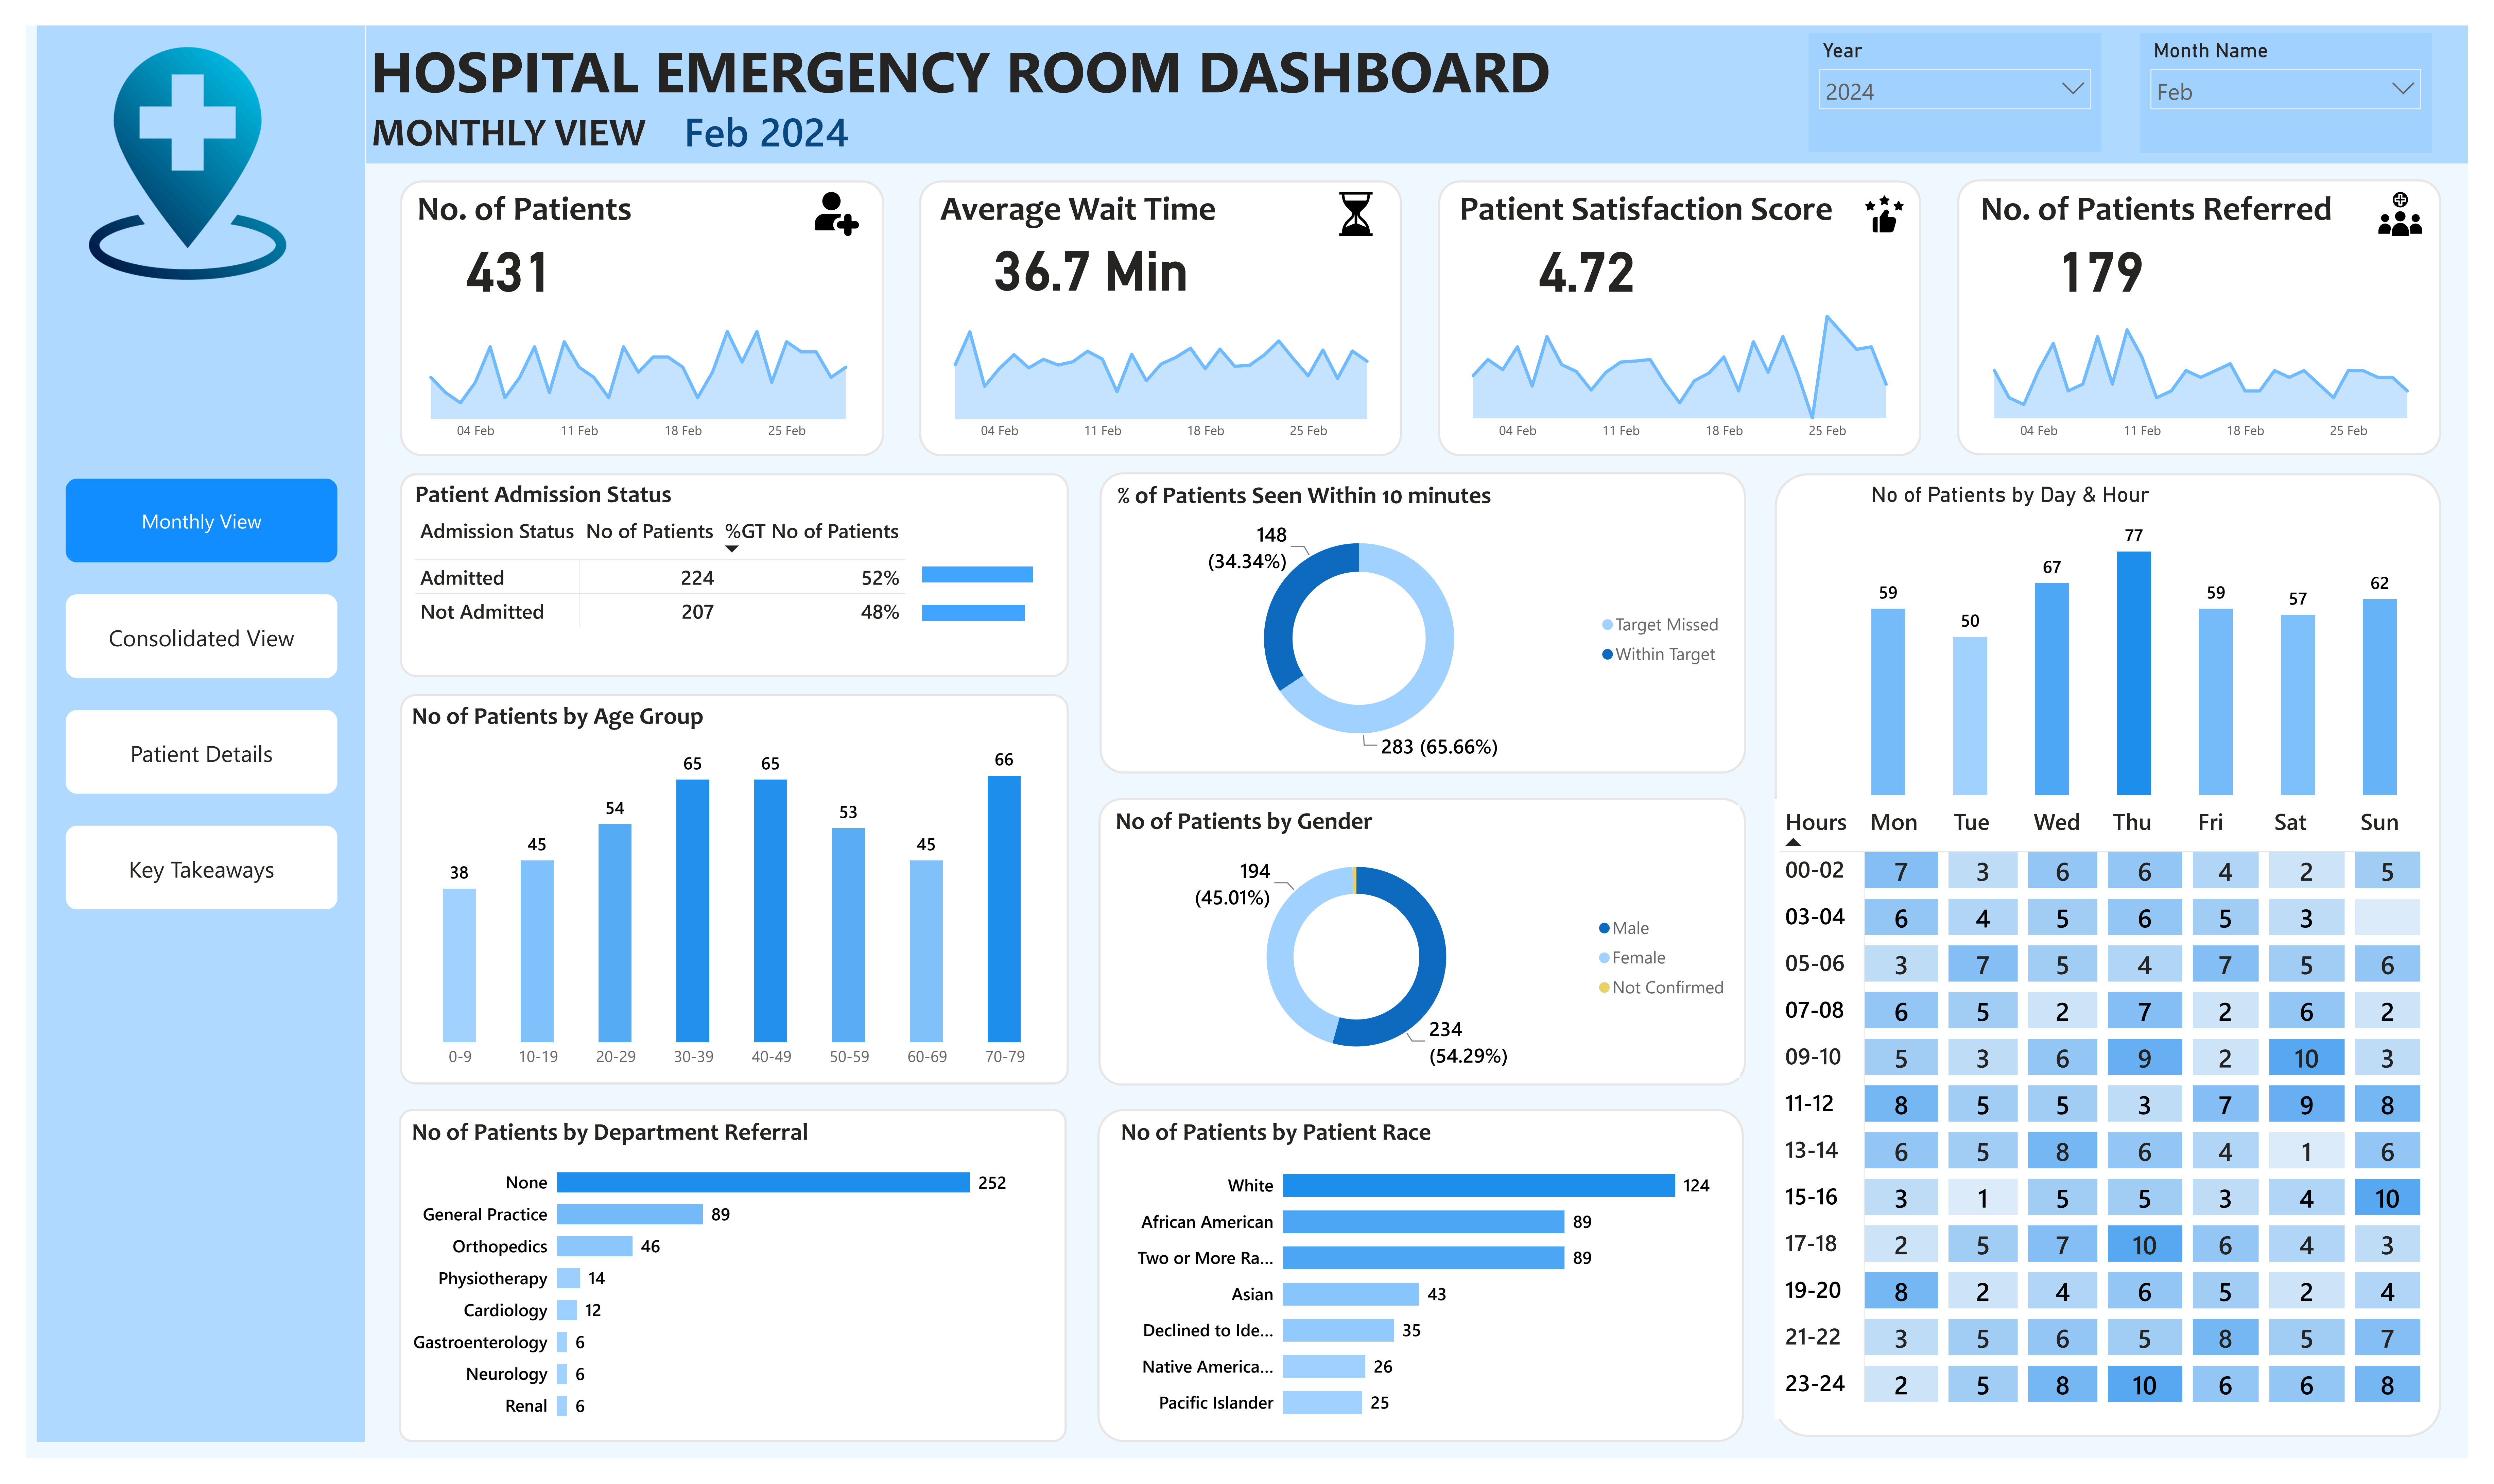

Layout of this report page (visuals, bound fields, positions):
{"tool":"powerbi","page":{"name":"Monthly View","canvas":[2300,1350],"ordinal":0},"visuals":[{"type":"shape","box":[9.7,0,309.7,1335],"z":0},{"type":"shape","box":[352,146,456,260],"z":1000},{"type":"shape","box":[320,0,2080,130],"z":2000},{"type":"textbox","box":[319.1,0,1188,93.3],"z":3000},{"type":"textbox","box":[320,72,322,58],"z":4000},{"type":"cardVisual","fields":{"Data":["Hospital ER_Data.No of Patients"]},"box":[380,184,150,92],"z":5000},{"type":"textbox","box":[362.9,147.6,217.7,50.8],"z":6000},{"type":"shape","box":[841.3,146,455,260],"z":7000},{"type":"areaChart","fields":{"Y":["Hospital ER_Data.No of Patients"],"Category":["Date.Date"]},"box":[358.4,260.2,436.9,139.9],"z":8000},{"type":"cardVisual","fields":{"Data":["Hospital ER_Data.Averge Wait Time"]},"box":[878.7,184.1,247.9,90.8],"z":9000},{"type":"textbox","box":[856.5,147.6,294,50],"z":10000},{"type":"shape","box":[1818.8,144.8,456,260],"z":11000},{"type":"shape","box":[1329.7,146,455,260],"z":12000},{"type":"areaChart","fields":{"Category":["Date.Date"],"Y":["Hospital ER_Data.No of Patient Referred"]},"box":[1831.1,260.2,434.5,139.9],"z":13000},{"type":"areaChart","fields":{"Category":["Date.Date"],"Y":["Hospital ER_Data.Satisfaction Score"]},"box":[1340.2,260.2,434.5,139.9],"z":14000},{"type":"areaChart","fields":{"Category":["Date.Date"],"Y":["Avg(Hospital ER_Data.Patient Waittime)"]},"box":[851.7,260.2,434.5,139.9],"z":15000},{"type":"textbox","box":[1836.3,147.6,367.7,50.8],"z":16000},{"type":"textbox","box":[1345.2,147.6,380,50],"z":17000},{"type":"cardVisual","fields":{"Data":["Hospital ER_Data.No of Patient Referred"]},"box":[1876,184,156,92],"z":18000},{"type":"cardVisual","fields":{"Data":["Hospital ER_Data.Satisfaction Score"]},"box":[1392,184,156,92],"z":19000},{"type":"shape","box":[352,422,630,192],"z":20000},{"type":"pivotTable","title":"Patient Admission Status","fields":{"Rows":["Hospital ER_Data.Admission Status"],"Values":["Hospital ER_Data.No of Patients","Divide(Hospital ER_Data.No of Patients, ScopedEval(Hospital ER_Data.No of Patients, []))"]},"box":[360.8,427.1,481.1,184.1],"z":21000},{"type":"barChart","fields":{"Category":["Hospital ER_Data.Admission Status"],"Y":["Hospital ER_Data.No of Patients"]},"box":[839.5,478.6,149.7,108],"z":22000},{"type":"shape","box":[352,630,630,368],"z":23000},{"type":"clusteredColumnChart","fields":{"Category":["Hospital ER_Data.Age Group"],"Y":["Hospital ER_Data.No of Patients"]},"box":[358.1,636.3,614.5,355.6],"z":24000},{"type":"shape","box":[350.8,1021,629,314.5],"z":25000},{"type":"clusteredBarChart","fields":{"Category":["Hospital ER_Data.Department Referral"],"Y":["Hospital ER_Data.No of Patients"]},"box":[358.1,1028.2,609.7,300],"z":26000},{"type":"shape","box":[1010.5,421,609,284],"z":27000},{"type":"donutChart","title":"% of Patients Seen Within 10 minutes","fields":{"Category":["Hospital ER_Data.WaitTime Status"],"Y":["Hospital ER_Data.No of Patients"]},"box":[1023.4,428.2,585.5,271],"z":28000},{"type":"shape","box":[1010.2,728.2,609.7,271],"z":29000},{"type":"donutChart","title":"No of Patients by Gender","fields":{"Y":["Hospital ER_Data.No of Patients"],"Category":["Hospital ER_Data.Patient Gender"]},"box":[1021,735.5,592.7,256.5],"z":30000},{"type":"shape","box":[1009.4,1021,609,314.5],"z":31000},{"type":"clusteredBarChart","fields":{"Y":["Hospital ER_Data.No of Patients"],"Category":["Hospital ER_Data.Patient Race"]},"box":[1025.8,1028.2,580.6,300],"z":32000},{"type":"shape","box":[1647,422.2,628.4,908.2],"z":33000},{"type":"pivotTable","fields":{"Rows":["Hospital ER_Data.Waittime Interval"],"Values":["Hospital ER_Data.No of Patients"],"Columns":["Date.Day Name Short"]},"box":[1647,729,618.5,584.2],"z":34000},{"type":"columnChart","title":"No of Patients by Day & Hour","fields":{"Category":["Date.Day Name Short"],"Y":["Hospital ER_Data.No of Patients"]},"box":[1732.9,429.5,508.1,301.9],"z":35000},{"type":"image","box":[42,20,220,220],"z":36000},{"type":"pageNavigator","box":[36.8,427.1,256,408],"z":37000},{"type":"image","box":[742.7,157.3,41.1,41.1],"z":38000},{"type":"image","box":[1231.5,157.3,41.1,41.1],"z":39000},{"type":"image","box":[1729.8,157.3,41.1,41.1],"z":40000},{"type":"image","box":[2216.1,157.3,41.1,41.1],"z":41000},{"type":"slicer","fields":{"Values":["Date.Year"]},"box":[1678.9,7.4,275.8,112],"z":42000},{"type":"cardVisual","fields":{"Data":["Min(Date.Month & Year)"]},"box":[562.1,61.4,270,71.2],"z":43000},{"type":"slicer","fields":{"Values":["Date.Month Name"]},"box":[1990.6,7.4,274.9,112.9],"z":44000}]}

Visuals, with their boxes on the page's 2300x1350 design canvas (x1, y1, x2, y2). These are canvas units, not pixel positions in the 2494x1484 screenshot, which may show the page scaled, cropped or inside an application window:
shape: crop(10, 0, 319, 1335)
shape: crop(352, 146, 808, 406)
shape: crop(320, 0, 2400, 130)
textbox: crop(319, 0, 1507, 93)
textbox: crop(320, 72, 642, 130)
cardVisual - Hospital ER_Data.No of Patients: crop(380, 184, 530, 276)
textbox: crop(363, 148, 581, 198)
shape: crop(841, 146, 1296, 406)
areaChart - Hospital ER_Data.No of Patients x Date.Date: crop(358, 260, 795, 400)
cardVisual - Hospital ER_Data.Averge Wait Time: crop(879, 184, 1127, 275)
textbox: crop(856, 148, 1150, 198)
shape: crop(1819, 145, 2275, 405)
shape: crop(1330, 146, 1785, 406)
areaChart - Date.Date x Hospital ER_Data.No of Patient Referred: crop(1831, 260, 2266, 400)
areaChart - Date.Date x Hospital ER_Data.Satisfaction Score: crop(1340, 260, 1775, 400)
areaChart - Date.Date x Avg(Hospital ER_Data.Patient Waittime): crop(852, 260, 1286, 400)
textbox: crop(1836, 148, 2204, 198)
textbox: crop(1345, 148, 1725, 198)
cardVisual - Hospital ER_Data.No of Patient Referred: crop(1876, 184, 2032, 276)
cardVisual - Hospital ER_Data.Satisfaction Score: crop(1392, 184, 1548, 276)
shape: crop(352, 422, 982, 614)
"Patient Admission Status" pivotTable: crop(361, 427, 842, 611)
barChart - Hospital ER_Data.Admission Status x Hospital ER_Data.No of Patients: crop(840, 479, 989, 587)
shape: crop(352, 630, 982, 998)
clusteredColumnChart - Hospital ER_Data.Age Group x Hospital ER_Data.No of Patients: crop(358, 636, 973, 992)
shape: crop(351, 1021, 980, 1336)
clusteredBarChart - Hospital ER_Data.Department Referral x Hospital ER_Data.No of Patients: crop(358, 1028, 968, 1328)
shape: crop(1010, 421, 1620, 705)
"% of Patients Seen Within 10 minutes" donutChart: crop(1023, 428, 1609, 699)
shape: crop(1010, 728, 1620, 999)
"No of Patients by Gender" donutChart: crop(1021, 736, 1614, 992)
shape: crop(1009, 1021, 1618, 1336)
clusteredBarChart - Hospital ER_Data.No of Patients x Hospital ER_Data.Patient Race: crop(1026, 1028, 1606, 1328)
shape: crop(1647, 422, 2275, 1330)
pivotTable - Hospital ER_Data.Waittime Interval x Hospital ER_Data.No of Patients: crop(1647, 729, 2266, 1313)
"No of Patients by Day & Hour" columnChart: crop(1733, 430, 2241, 731)
image: crop(42, 20, 262, 240)
pageNavigator: crop(37, 427, 293, 835)
image: crop(743, 157, 784, 198)
image: crop(1232, 157, 1273, 198)
image: crop(1730, 157, 1771, 198)
image: crop(2216, 157, 2257, 198)
slicer - Date.Year: crop(1679, 7, 1955, 119)
cardVisual - Min(Date.Month & Year): crop(562, 61, 832, 133)
slicer - Date.Month Name: crop(1991, 7, 2266, 120)
